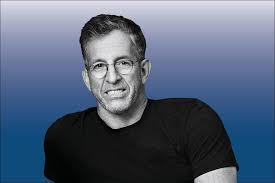Glasses: (85, 57, 135, 78)
